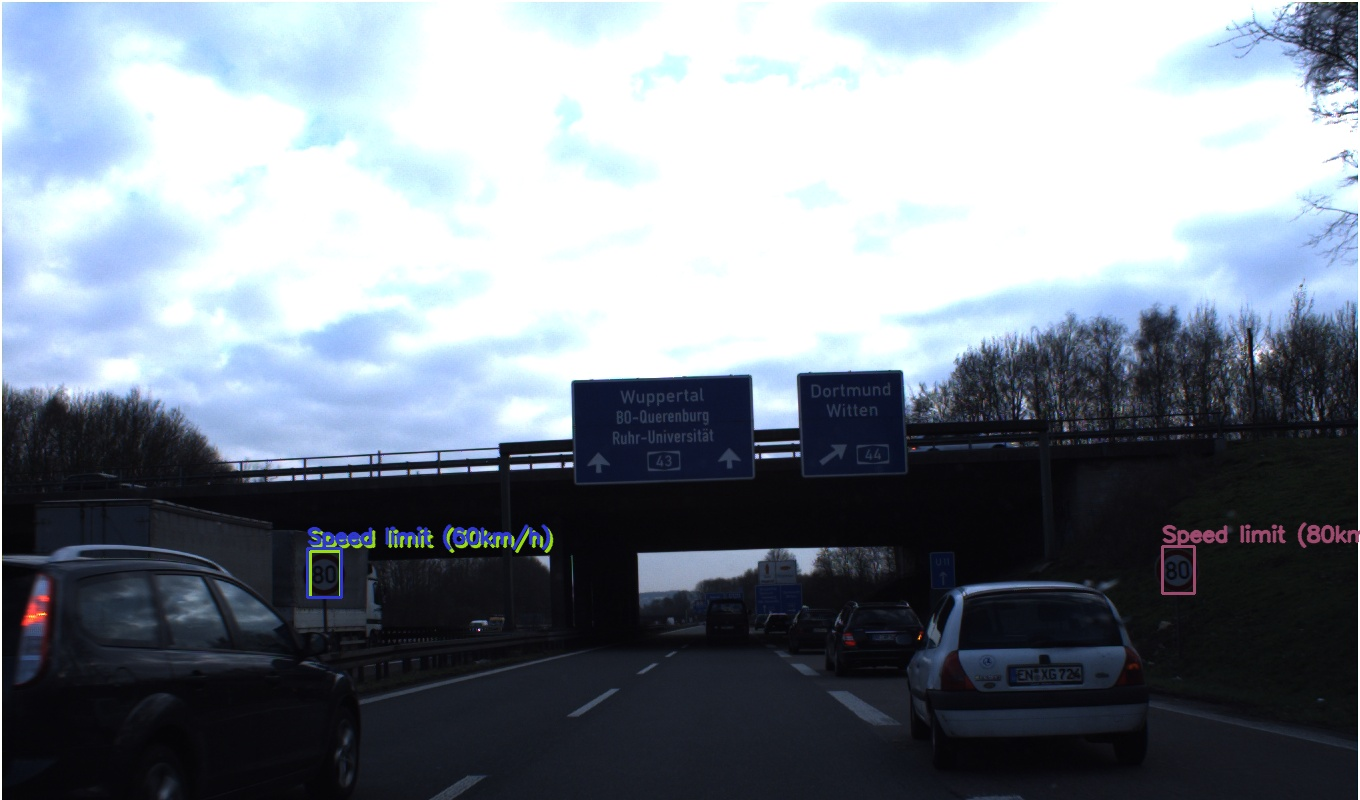Priority road: (1110, 158, 1231, 273), (703, 461, 725, 483)
Speed limit (70km/h): (1131, 274, 1221, 361)
